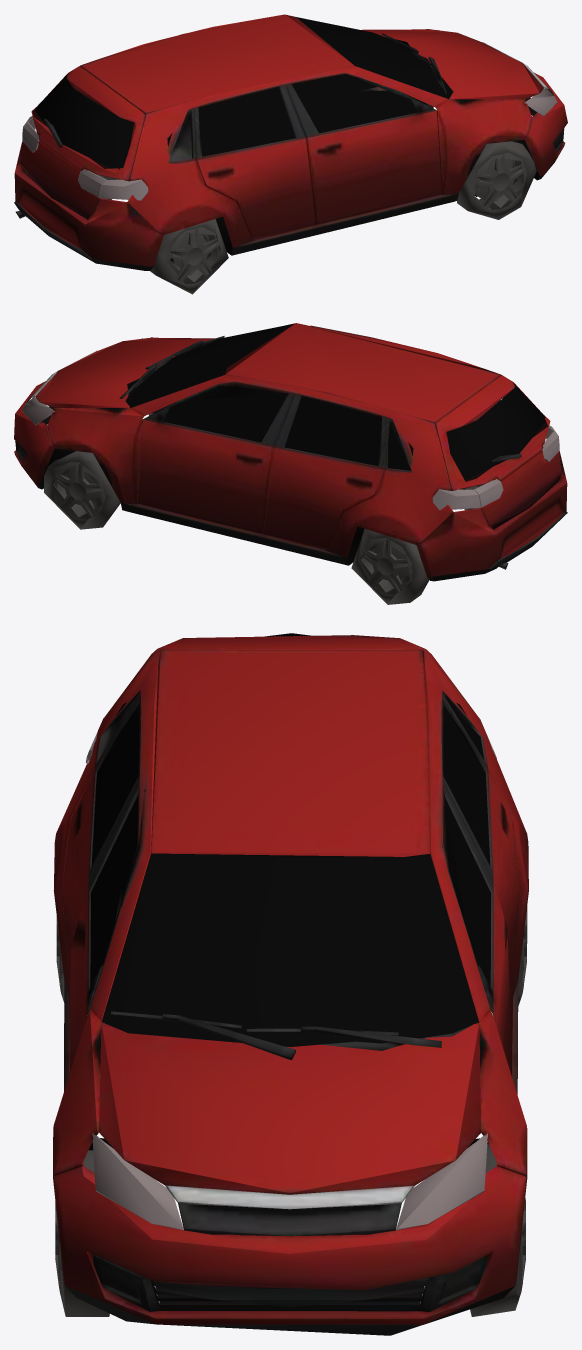
The model's file is pc-hatchback-red.lod1.glb.
3 views of the same model, one above another, from view 1: azimuth 30°, elevation 25°; view 2: azimuth 150°, elevation 25°; view 3: azimuth 270°, elevation 25° (orthographic). The views are drawn at different scales.
Visible parts, largest first — view 1: Hatchback Body_Body_0, Hatchback Body_Glass_0; view 2: Hatchback Body_Body_0, Hatchback Body_Glass_0; view 3: Hatchback Body_Body_0, Hatchback Body_Glass_0.
Boxes of the visible parts, box(x1,y1,x2,y2) form: Hatchback Body_Body_0: box(14, 14, 567, 270); Hatchback Body_Glass_0: box(22, 16, 557, 294); Hatchback Body_Body_0: box(14, 323, 567, 581); Hatchback Body_Glass_0: box(22, 323, 559, 604); Hatchback Body_Body_0: box(53, 635, 528, 1335); Hatchback Body_Glass_0: box(55, 633, 527, 1316).
Bounding box in the file's own units: 3.92 × 1.31 × 1.62.
Materials: 2 (1 with a texture image).
